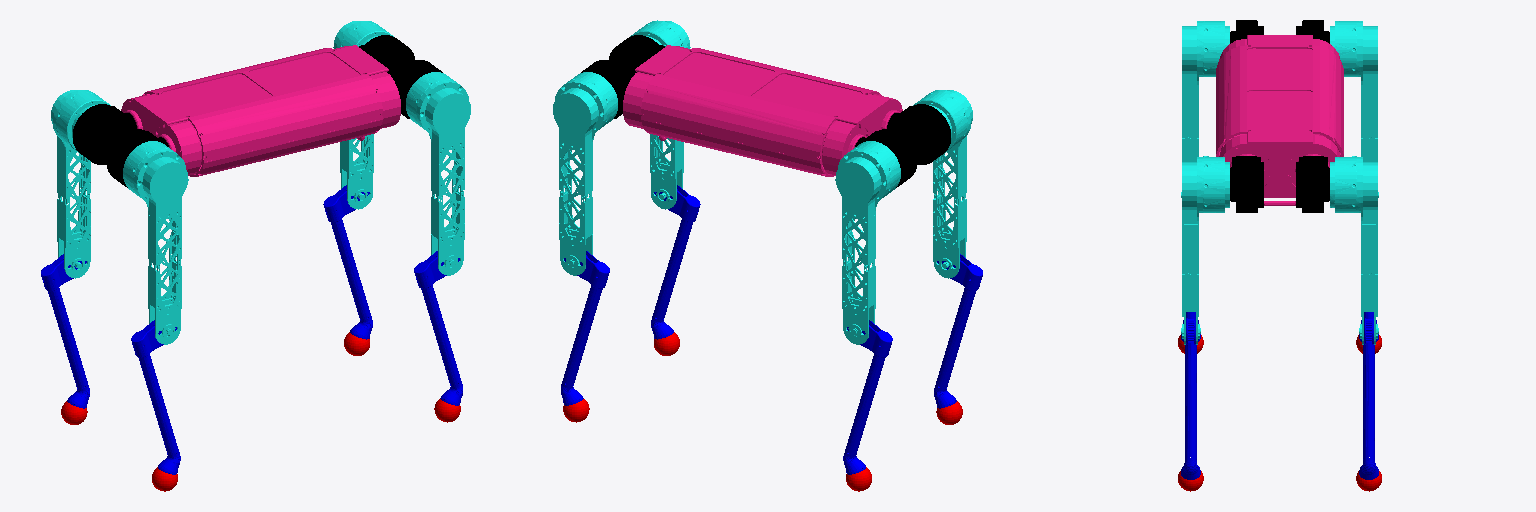
--- Render facts (derived) ---
3 views of the same robot in one strip: view 1: azimuth 30°, elevation 25°; view 2: azimuth 150°, elevation 25°; view 3: azimuth 270°, elevation 25° (orthographic).
Model siriusmid with 17 links and 16 joints (12 revolute, 4 fixed), rooted at body_link, posed every joint at zero.
Visible links, largest first — view 1: body_link, rf_hip_link, rr_hip_link, lr_hip_link, lf_hip_link, lr_abad_link, lf_knee_link, rf_knee_link, rr_knee_link, lr_knee_link, rr_abad_link, lf_abad_link (+1 smaller); view 2: body_link, lf_hip_link, lr_hip_link, rr_hip_link, rf_hip_link, rr_abad_link, rf_knee_link, lf_knee_link, lr_knee_link, rr_knee_link, lr_abad_link, rf_abad_link (+1 smaller); view 3: body_link, rf_hip_link, lf_hip_link, lr_hip_link, rr_hip_link, rf_knee_link, lf_knee_link, lf_abad_link, rf_abad_link.
Link boxes in pixels (x1,y1,x2,y2): body_link: [121, 45, 400, 176]; rf_hip_link: [406, 72, 470, 275]; rr_hip_link: [123, 141, 188, 344]; lr_hip_link: [51, 90, 110, 278]; lf_hip_link: [333, 21, 393, 209]; lr_abad_link: [73, 104, 136, 164]; lf_knee_link: [323, 185, 372, 339]; rf_knee_link: [414, 251, 462, 405]; rr_knee_link: [131, 320, 180, 474]; lr_knee_link: [41, 254, 89, 408]; rr_abad_link: [106, 129, 168, 187]; lf_abad_link: [359, 35, 414, 74]; body_link: [623, 45, 902, 176]; lf_hip_link: [553, 72, 617, 275]; lr_hip_link: [835, 141, 900, 344]; rr_hip_link: [913, 90, 972, 278]; rf_hip_link: [630, 20, 690, 209]; rr_abad_link: [887, 104, 950, 164]; rf_knee_link: [651, 185, 700, 339]; lf_knee_link: [561, 251, 609, 405]; lr_knee_link: [843, 320, 892, 474]; rr_knee_link: [934, 254, 982, 408]; lr_abad_link: [855, 129, 917, 187]; rf_abad_link: [609, 35, 664, 75]; body_link: [1216, 35, 1343, 205]; rf_hip_link: [1181, 156, 1229, 344]; lf_hip_link: [1330, 156, 1378, 344]; lr_hip_link: [1330, 21, 1378, 197]; rr_hip_link: [1181, 21, 1229, 197]; rf_knee_link: [1181, 318, 1200, 479]; lf_knee_link: [1359, 318, 1378, 479]; lf_abad_link: [1296, 156, 1329, 212]; rf_abad_link: [1230, 156, 1263, 212].
Bounding box of the posed robot: 0.6448 × 0.3406 × 0.6138 m (x, y, z).
Meshes: 13 distinct files referenced, 13 mesh visuals loaded (13 binary STL).

robot.urdf — siriusmid:
<?xml version="1.0" encoding="utf-8"?>
<!-- =================================================================================== -->
<!-- |    This document was autogenerated by xacro from siriusmid.urdf.xacro           | -->
<!-- |    EDITING THIS FILE BY HAND IS NOT RECOMMENDED                                 | -->
<!-- =================================================================================== -->
<robot name="siriusmid">
  <!-- arm link 1 position-->
  <!-- arm link 2 position-->
  <!-- arm link 3 position-->
  <!-- arm link 4 position-->
  <!-- arm link 5 position-->
  <!-- arm link 6 position-->
  <!-- Defining the colors used in this robot -->
  <material name="Black">
    <color rgba="0 0 0 1"/>
  </material>
  <material name="Yellow">
    <color rgba="0.854 0.976 0.14 0.8"/>
  </material>
  <material name="White">
    <color rgba="1 1 1 1"/>
  </material>
  <material name="Pink">
    <color rgba="0.96 0.15 0.568 0.8"/>
  </material>
  <material name="Blue">
    <color rgba="0 0 1 1"/>
  </material>
  <material name="Red">
    <color rgba="1 0 0 1"/>
  </material>
  <material name="GreenSky">
    <color rgba="0.149 0.976 0.941 0.8"/>
  </material>

  <!-- Now we can start using the macros included above to define the actual Siriusmid -->
  <!-- BASE LINK -->
  <!-- floating type is supported in older versions of Gazebo. In new Gazebo if a link has no parent, it is supposed to be attached to a floating joint -->
  <!-- Floating-base Joint -->
  <!-- <link name="world"/>
  <joint name="floating_base_joint" type="floating">
    <origin rpy="0 0 0" xyz="0 0 0"/>
    <parent link="world"/>
    <child link="base_link"/>
  </joint>
  <joint name="floating_base" type="fixed">
    <origin rpy="0 0 0" xyz="0 0 0"/>
    <parent link="base_link"/>
    <child link="body_link"/>
  </joint> -->
  <!-- <link name="base_link"/> -->
  <!-- body link -->
  <link name="body_link">
    <inertial>
      <origin rpy="0 0 0" xyz="4.0393E-05 -2.1734E-06 -0.00063565"/>
      <mass value="5.283"/>
      <inertia ixx="0.028454" ixy="-5.9775E-08" ixz="-0.00050774" iyy="0.15791" iyz="-1.7886E-08" izz="0.17219"/>
    </inertial>
    <visual>
      <origin rpy="1.5704 0 0" xyz=" 0 0 0"/>
      <geometry>
        <mesh filename="package://siriusmid_description/meshes/body_link.STL"/>
      </geometry>
      <material name="Pink"/>
    </visual>
    <collision>
      <origin rpy="0 0 0" xyz="0 0 0"/>
      <geometry>
        <mesh filename="package://siriusmid_description/meshes/body_link.STL"/>
      </geometry>
    </collision>
  </link>

  <!-- Joints -->
  <!-- abad assembly joint -->
  <!-- Links -->
  <!-- abad link -->
  <link name="lf_abad_link">
    <inertial>
      <origin rpy="0 0 0" xyz="-0.0012806 4.3563E-08 0.049958"/>
      <mass value="0.92607"/>
      <inertia ixx="0.00098647" ixy="-7.0392E-11" ixz="6.4987E-06" iyy="0.00071554" iyz="1.2357E-10" izz="0.00065157"/>
    </inertial>
    <visual>
      <origin rpy="0 0  0 " xyz="0 0 0"/>
      <geometry>
        <mesh filename="package://siriusmid_description/meshes/lf_abad_link.STL"/>
      </geometry>
      <material name="Black"/>
    </visual>
    <collision>
      <origin rpy="0 0 0 " xyz="0 0 0"/>
      <geometry>
        <mesh filename="package://siriusmid_description/meshes/lf_abad_link.STL"/>
      </geometry>
    </collision>
  </link>
  <!-- name: lf,lr,rf,rr -->
  <link name="lf_hip_link">
    <inertial>
      <origin rpy="0 0 0" xyz="0.027042 -1.7816E-10 0.028552"/>
      <mass value="1.22"/>
      <inertia ixx="0.001198" ixy="4.6672E-11" ixz="0.00095291" iyy="0.0068604" iyz="2.0712E-12" izz="0.0068553"/>
    </inertial>
    <visual>
      <origin rpy="0 0  0 " xyz="0 0 0"/>
      <geometry>
        <mesh filename="package://siriusmid_description/meshes/lf_hip_link.STL"/>
      </geometry>
      <material name="GreenSky"/>
    </visual>
    <collision>
      <origin rpy="0 0 0 " xyz="0 0 0"/>
      <geometry>
        <mesh filename="package://siriusmid_description/meshes/lf_hip_link.STL"/>
      </geometry>
    </collision>
  </link>
  <!-- Lower leg link -->
  <!-- name: lf,lr,rf,rr -->
  <link name="lf_knee_link">
    <inertial>
      <origin rpy="0 0 0" xyz="0.11612 -0.0066095 -4.5982E-08"/>
      <mass value="0.19509"/>
      <inertia ixx="0.00010142" ixy="-0.00027114" ixz="2.9242E-09" iyy="0.0024964" iyz="2.6632E-09" izz="0.0025805"/>
    </inertial>
    <visual>
      <origin rpy="0 0  0 " xyz="0 0 0"/>
      <geometry>
        <mesh filename="package://siriusmid_description/meshes/lf_knee_link.STL"/>
      </geometry>
      <material name="Blue"/>
    </visual>
    <collision>
      <origin rpy="0 0 0 " xyz="0 0 0"/>
      <geometry>
        <mesh filename="package://siriusmid_description/meshes/lf_knee_link.STL"/>
      </geometry>
    </collision>
  </link>
  <!-- Links -->
  <!-- Foot link -->
  <link name="lf_foot">
    <collision>
      <origin rpy="0 0 0" xyz="0 0 0"/>
      <geometry>
        <sphere radius="0.02175"/>
      </geometry>
    </collision>
    <visual>
      <geometry>
        <sphere radius="0.02175"/>
      </geometry>
      <material name="Red"/>
    </visual>
    <inertial>
      <origin rpy="0 0 0" xyz="0 0 0"/>
      <mass value="0.003"/>
      <inertia ixx="0." ixy="0" ixz="0" iyy="0" iyz="0" izz="0"/>
    </inertial>
  </link>
  <!-- Hip assembly -->
  <transmission name="lf_abad_trans">
    <type>transmission_interface/SimpleTransmission</type>
    <joint name="lf_abad_joint">
      <hardwareInterface>hardware_interface/EffortJointInterface</hardwareInterface>
    </joint>
    <actuator name="lf_haa_motor">
      <mechanicalReduction>1</mechanicalReduction>
    </actuator>
  </transmission>
  <!-- Upper leg -->
  <transmission name="lf_hip_trans">
    <type>transmission_interface/SimpleTransmission</type>
    <joint name="lf_hip_joint">
      <hardwareInterface>hardware_interface/EffortJointInterface</hardwareInterface>
    </joint>
    <actuator name="lf_hip_motor">
      <mechanicalReduction>1</mechanicalReduction>
    </actuator>
  </transmission>
  <!-- Lower leg -->
  <transmission name="lf_knee_trans">
    <type>transmission_interface/SimpleTransmission</type>
    <joint name="lf_knee_joint">
      <hardwareInterface>hardware_interface/EffortJointInterface</hardwareInterface>
    </joint>
    <actuator name="lf_knee_motor">
      <mechanicalReduction>1</mechanicalReduction>
    </actuator>
  </transmission>

  <!-- Joints -->
  <!-- abad assembly joint -->
  <joint name="rf_abad_joint" type="revolute">
    <parent link="body_link"/>
    <child link="rf_abad_link"/>
    <origin rpy="-1.5708 0 -1.5708" xyz="0.216 -0.055 0"/>
    <axis xyz="0 0 -1"/>
    <limit effort="25" lower="-2.88" upper="2.88" velocity="15"/>
    <!-- soft limits  keep the motor in safety mode-->
    <safety_controller k_position="500" k_velocity="5" soft_lower_limit="-2.78" soft_upper_limit="2.78"/>
  </joint>
  <!-- Upper leg joint -->
  <joint name="rf_hip_joint" type="revolute">
    <parent link="rf_abad_link"/>
    <child link="rf_hip_link"/>
    <origin rpy="1.5708 0 1.5708" xyz="0.09355 0 0.052"/>
    <axis xyz="0 0 1"/>
    <limit effort="25" lower="-2.88" upper="2.88" velocity="15"/>
    <!-- soft limits  keep the motor in safety mode-->
    <safety_controller k_position="500" k_velocity="5" soft_lower_limit="-2.78" soft_upper_limit="2.78"/>
  </joint>
  <!-- Lower leg joint -->
  <joint name="rf_knee_joint" type="revolute">
    <parent link="rf_hip_link"/>
    <child link="rf_knee_link"/>
    <origin rpy="0 0 0" xyz="0.269 0 0"/>
    <axis xyz="0 0 -1"/>
    <limit effort="25" lower="-2.88" upper="2.88" velocity="15"/>
    <!-- soft limits  keep the motor in safety mode-->
    <safety_controller k_position="500" k_velocity="5" soft_lower_limit="-2.78" soft_upper_limit="2.78"/>
  </joint>
    <joint name="lf_abad_joint" type="revolute">
    <parent link="body_link"/>
    <child link="lf_abad_link"/>
    <origin rpy="1.5708 0 1.5708" xyz="0.216 0.055 0"/>
    <axis xyz="0 0 -1"/>
    <limit effort="25" lower="-2.88" upper="2.88" velocity="15"/>
    <!-- soft limits  keep the motor in safety mode-->
    <safety_controller k_position="500" k_velocity="5" soft_lower_limit="-2.78" soft_upper_limit="2.78"/>
  </joint>
  <!-- Upper leg joint -->
  <joint name="lf_hip_joint" type="revolute">
    <parent link="lf_abad_link"/>
    <child link="lf_hip_link"/>
    <origin rpy="1.5708 0 -1.5708" xyz="0.09355 0 0.052"/>
    <axis xyz="0 0 1"/>
    <limit effort="25" lower="-2.88" upper="2.88" velocity="15"/>
    <!-- soft limits  keep the motor in safety mode-->
    <safety_controller k_position="500" k_velocity="5" soft_lower_limit="-2.78" soft_upper_limit="2.78"/>
  </joint>
  <!-- Lower leg joint -->
  <joint name="lf_knee_joint" type="revolute">
    <parent link="lf_hip_link"/>
    <child link="lf_knee_link"/>
    <origin rpy="0 0 0" xyz="0.269 0 0"/>
    <axis xyz="0 0 -1"/>
    <limit effort="25" lower="-2.88" upper="2.88" velocity="15"/>
    <!-- soft limits  keep the motor in safety mode-->
    <safety_controller k_position="500" k_velocity="5" soft_lower_limit="-2.78" soft_upper_limit="2.78"/>
  </joint>
  <!-- foot joint-->
  <joint name="lf_foot_joint" type="fixed">
    <origin rpy="1.57079632679 0 -1.57079632679" xyz="0.271 0 0"/>
    <parent link="lf_knee_link"/>
    <child link="lf_foot"/>
  </joint>

  <!-- foot joint-->
  <joint name="rf_foot_joint" type="fixed">
    <origin rpy="1.57079632679 0 -1.57079632679" xyz="0.271 0 0"/>
    <parent link="rf_knee_link"/>
    <child link="rf_foot"/>
  </joint>
  <!-- Links -->
  <!-- abad link -->
  <link name="rf_abad_link">
    <inertial>
      <origin rpy="0 0 0" xyz="-0.0012806 4.3563E-08 0.049958"/>
      <mass value="0.92607"/>
      <inertia ixx="0.00098647" ixy="-7.0392E-11" ixz="6.4987E-06" iyy="0.00071554" iyz="1.2357E-10" izz="0.00065157"/>
    </inertial>
    <visual>
      <origin rpy="0 0  0 " xyz="0 0 0"/>
      <geometry>
        <mesh filename="package://siriusmid_description/meshes/rf_abad_link.STL"/>
      </geometry>
      <material name="Black"/>
    </visual>
    <collision>
      <origin rpy="0 0 0 " xyz="0 0 0"/>
      <geometry>
        <mesh filename="package://siriusmid_description/meshes/rf_abad_link.STL"/>
      </geometry>
    </collision>
  </link>
  <!-- name: lf,lr,rf,rr -->
  <link name="rf_hip_link">
    <inertial>
      <origin rpy="0 0 0" xyz="0.027042 -1.7816E-10 0.028552"/>
      <mass value="1.22"/>
      <inertia ixx="0.001198" ixy="4.6672E-11" ixz="0.00095291" iyy="0.0068604" iyz="2.0712E-12" izz="0.0068553"/>
    </inertial>
    <visual>
      <origin rpy="0 0  0 " xyz="0 0 0"/>
      <geometry>
        <mesh filename="package://siriusmid_description/meshes/rf_hip_link.STL"/>
      </geometry>
      <material name="GreenSky"/>
    </visual>
    <collision>
      <origin rpy="0 0 0 " xyz="0 0 0"/>
      <geometry>
        <mesh filename="package://siriusmid_description/meshes/rf_hip_link.STL"/>
      </geometry>
    </collision>
  </link>
  <!-- Lower leg link -->
  <!-- name: lf,lr,rf,rr -->
  <link name="rf_knee_link">
    <inertial>
      <origin rpy="0 0 0" xyz="0.11612 -0.0066095 -4.5982E-08"/>
      <mass value="0.19509"/>
      <inertia ixx="0.00010142" ixy="-0.00027114" ixz="2.9242E-09" iyy="0.0024964" iyz="2.6632E-09" izz="0.0025805"/>
    </inertial>
    <visual>
      <origin rpy="0 0  0 " xyz="0 0 0"/>
      <geometry>
        <mesh filename="package://siriusmid_description/meshes/rf_knee_link.STL"/>
      </geometry>
      <material name="Blue"/>
    </visual>
    <collision>
      <origin rpy="0 0 0 " xyz="0 0 0"/>
      <geometry>
        <mesh filename="package://siriusmid_description/meshes/rf_knee_link.STL"/>
      </geometry>
    </collision>
  </link>
  <!-- Links -->
  <!-- Foot link -->
  <link name="rf_foot">
    <collision>
      <origin rpy="0 0 0" xyz="0 0 0"/>
      <geometry>
        <sphere radius="0.02175"/>
      </geometry>
    </collision>
    <visual>
      <geometry>
        <sphere radius="0.02175"/>
      </geometry>
      <material name="Red"/>
    </visual>
    <inertial>
      <origin rpy="0 0 0" xyz="0 0 0"/>
      <mass value="0.003"/>
      <inertia ixx="0." ixy="0" ixz="0" iyy="0" iyz="0" izz="0"/>
    </inertial>
  </link>
  <!-- Hip assembly -->
  <transmission name="rf_abad_trans">
    <type>transmission_interface/SimpleTransmission</type>
    <joint name="rf_abad_joint">
      <hardwareInterface>hardware_interface/EffortJointInterface</hardwareInterface>
    </joint>
    <actuator name="rf_haa_motor">
      <mechanicalReduction>1</mechanicalReduction>
    </actuator>
  </transmission>
  <!-- Upper leg -->
  <transmission name="rf_hip_trans">
    <type>transmission_interface/SimpleTransmission</type>
    <joint name="rf_hip_joint">
      <hardwareInterface>hardware_interface/EffortJointInterface</hardwareInterface>
    </joint>
    <actuator name="rf_hip_motor">
      <mechanicalReduction>1</mechanicalReduction>
    </actuator>
  </transmission>
  <!-- Lower leg -->
  <transmission name="rf_knee_trans">
    <type>transmission_interface/SimpleTransmission</type>
    <joint name="rf_knee_joint">
      <hardwareInterface>hardware_interface/EffortJointInterface</hardwareInterface>
    </joint>
    <actuator name="rf_knee_motor">
      <mechanicalReduction>1</mechanicalReduction>
    </actuator>
  </transmission>

    <joint name="rr_abad_joint" type="revolute">
    <parent link="body_link"/>
    <child link="rr_abad_link"/>
    <origin rpy="1.5708 0 -1.5708" xyz="-0.216 -0.055 0"/>
    <axis xyz="0 0 -1"/>
    <limit effort="25" lower="-2.88" upper="2.88" velocity="15"/>
    <!-- soft limits  keep the motor in safety mode-->
    <safety_controller k_position="500" k_velocity="5" soft_lower_limit="-2.78" soft_upper_limit="2.78"/>
  </joint>
  <!-- Upper leg joint -->
  <joint name="rr_hip_joint" type="revolute">
    <parent link="rr_abad_link"/>
    <child link="rr_hip_link"/>
    <origin rpy="-1.5708 0 -1.5708" xyz="0.09355 0 0.052"/>
    <axis xyz="0 0 1"/>
    <limit effort="25" lower="-2.88" upper="2.88" velocity="15"/>
    <!-- soft limits  keep the motor in safety mode-->
    <safety_controller k_position="500" k_velocity="5" soft_lower_limit="-2.78" soft_upper_limit="2.78"/>
  </joint>
  <!-- Lower leg joint -->
  <joint name="rr_knee_joint" type="revolute">
    <parent link="rr_hip_link"/>
    <child link="rr_knee_link"/>
    <origin rpy="0 0 0" xyz="0.269 0 0"/>
    <axis xyz="0 0 -1"/>
    <limit effort="25" lower="-2.88" upper="2.88" velocity="15"/>
    <!-- soft limits  keep the motor in safety mode-->
    <safety_controller k_position="500" k_velocity="5" soft_lower_limit="-2.78" soft_upper_limit="2.78"/>
  </joint>
  <!-- foot joint-->
  <joint name="rr_foot_joint" type="fixed">
    <origin rpy="1.57079632679 0 -1.57079632679" xyz="0.271 0 0"/>
    <parent link="rr_knee_link"/>
    <child link="rr_foot"/>
  </joint>

  <!-- Joints -->
  <!-- abad assembly joint -->
  <joint name="lr_abad_joint" type="revolute">
    <parent link="body_link"/>
    <child link="lr_abad_link"/>
    <origin rpy="-1.5708 0 1.5708" xyz="-0.216 0.055 0"/>
    <axis xyz="0 0 -1"/>
    <limit effort="25" lower="-2.88" upper="2.88" velocity="15"/>
    <!-- soft limits  keep the motor in safety mode-->
    <safety_controller k_position="500" k_velocity="5" soft_lower_limit="-2.78" soft_upper_limit="2.78"/>
  </joint>
  <!-- Upper leg joint -->
  <joint name="lr_hip_joint" type="revolute">
    <parent link="lr_abad_link"/>
    <child link="lr_hip_link"/>
    <origin rpy="-1.5708 0 1.5708" xyz="0.09355 0 0.052"/>
    <axis xyz="0 0 1"/>
    <limit effort="25" lower="-2.88" upper="2.88" velocity="15"/>
    <!-- soft limits  keep the motor in safety mode-->
    <safety_controller k_position="500" k_velocity="5" soft_lower_limit="-2.78" soft_upper_limit="2.78"/>
  </joint>
  <!-- Lower leg joint -->
  <joint name="lr_knee_joint" type="revolute">
    <parent link="lr_hip_link"/>
    <child link="lr_knee_link"/>
    <origin rpy="0 0 0" xyz="0.269 0 0"/>
    <axis xyz="0 0 -1"/>
    <limit effort="25" lower="-2.88" upper="2.88" velocity="15"/>
    <!-- soft limits  keep the motor in safety mode-->
    <safety_controller k_position="500" k_velocity="5" soft_lower_limit="-2.78" soft_upper_limit="2.78"/>
  </joint>
  <!-- foot joint-->
  <joint name="lr_foot_joint" type="fixed">
    <origin rpy="1.57079632679 0 -1.57079632679" xyz="0.271 0 0"/>
    <parent link="lr_knee_link"/>
    <child link="lr_foot"/>
  </joint>
  <!-- Links -->
  <!-- abad link -->
  <link name="lr_abad_link">
    <inertial>
      <origin rpy="0 0 0" xyz="-0.0012806 4.3563E-08 0.049958"/>
      <mass value="0.92607"/>
      <inertia ixx="0.00098647" ixy="-7.0392E-11" ixz="6.4987E-06" iyy="0.00071554" iyz="1.2357E-10" izz="0.00065157"/>
    </inertial>
    <visual>
      <origin rpy="0 0  0 " xyz="0 0 0"/>
      <geometry>
        <mesh filename="package://siriusmid_description/meshes/lr_abad_link.STL"/>
      </geometry>
      <material name="Black"/>
    </visual>
    <collision>
      <origin rpy="0 0 0 " xyz="0 0 0"/>
      <geometry>
        <mesh filename="package://siriusmid_description/meshes/lr_abad_link.STL"/>
      </geometry>
    </collision>
  </link>
  <!-- name: lf,lr,rf,rr -->
  <link name="lr_hip_link">
    <inertial>
      <origin rpy="0 0 0" xyz="0.027042 -1.7816E-10 0.028552"/>
      <mass value="1.22"/>
      <inertia ixx="0.001198" ixy="4.6672E-11" ixz="0.00095291" iyy="0.0068604" iyz="2.0712E-12" izz="0.0068553"/>
    </inertial>
    <visual>
      <origin rpy="0 0  0 " xyz="0 0 0"/>
      <geometry>
        <mesh filename="package://siriusmid_description/meshes/lr_hip_link.STL"/>
      </geometry>
      <material name="GreenSky"/>
    </visual>
    <collision>
      <origin rpy="0 0 0 " xyz="0 0 0"/>
      <geometry>
        <mesh filename="package://siriusmid_description/meshes/lr_hip_link.STL"/>
      </geometry>
    </collision>
  </link>
  <!-- Lower leg link -->
  <!-- name: lf,lr,rf,rr -->
  <link name="lr_knee_link">
    <inertial>
      <origin rpy="0 0 0" xyz="0.11612 -0.0066095 -4.5982E-08"/>
      <mass value="0.19509"/>
      <inertia ixx="0.00010142" ixy="-0.00027114" ixz="2.9242E-09" iyy="0.0024964" iyz="2.6632E-09" izz="0.0025805"/>
    </inertial>
    <visual>
      <origin rpy="0 0  0 " xyz="0 0 0"/>
      <geometry>
        <mesh filename="package://siriusmid_description/meshes/lr_knee_link.STL"/>
      </geometry>
      <material name="Blue"/>
    </visual>
    <collision>
      <origin rpy="0 0 0 " xyz="0 0 0"/>
      <geometry>
        <mesh filename="package://siriusmid_description/meshes/lr_knee_link.STL"/>
      </geometry>
    </collision>
  </link>
  <!-- Links -->
  <!-- Foot link -->
  <link name="lr_foot">
    <collision>
      <origin rpy="0 0 0" xyz="0 0 0"/>
      <geometry>
        <sphere radius="0.02175"/>
      </geometry>
    </collision>
    <visual>
      <geometry>
        <sphere radius="0.02175"/>
      </geometry>
      <material name="Red"/>
    </visual>
    <inertial>
      <origin rpy="0 0 0" xyz="0 0 0"/>
      <mass value="0.003"/>
      <inertia ixx="0." ixy="0" ixz="0" iyy="0" iyz="0" izz="0"/>
    </inertial>
  </link>
  <!-- Hip assembly -->
  <transmission name="lr_abad_trans">
    <type>transmission_interface/SimpleTransmission</type>
    <joint name="lr_abad_joint">
      <hardwareInterface>hardware_interface/EffortJointInterface</hardwareInterface>
    </joint>
    <actuator name="lr_haa_motor">
      <mechanicalReduction>1</mechanicalReduction>
    </actuator>
  </transmission>
  <!-- Upper leg -->
  <transmission name="lr_hip_trans">
    <type>transmission_interface/SimpleTransmission</type>
    <joint name="lr_hip_joint">
      <hardwareInterface>hardware_interface/EffortJointInterface</hardwareInterface>
    </joint>
    <actuator name="lr_hip_motor">
      <mechanicalReduction>1</mechanicalReduction>
    </actuator>
  </transmission>
  <!-- Lower leg -->
  <transmission name="lr_knee_trans">
    <type>transmission_interface/SimpleTransmission</type>
    <joint name="lr_knee_joint">
      <hardwareInterface>hardware_interface/EffortJointInterface</hardwareInterface>
    </joint>
    <actuator name="lr_knee_motor">
      <mechanicalReduction>1</mechanicalReduction>
    </actuator>
  </transmission>
  <!-- Joints -->
  <!-- abad assembly joint -->
  <!-- Links -->
  <!-- abad link -->
  <link name="rr_abad_link">
    <inertial>
      <origin rpy="0 0 0" xyz="-0.0012806 4.3563E-08 0.049958"/>
      <mass value="0.92607"/>
      <inertia ixx="0.00098647" ixy="-7.0392E-11" ixz="6.4987E-06" iyy="0.00071554" iyz="1.2357E-10" izz="0.00065157"/>
    </inertial>
    <visual>
      <origin rpy="0 0  0 " xyz="0 0 0"/>
      <geometry>
        <mesh filename="package://siriusmid_description/meshes/rr_abad_link.STL"/>
      </geometry>
      <material name="Black"/>
    </visual>
    <collision>
      <origin rpy="0 0 0 " xyz="0 0 0"/>
      <geometry>
        <mesh filename="package://siriusmid_description/meshes/rr_abad_link.STL"/>
      </geometry>
    </collision>
  </link>
  <!-- name: lf,lr,rf,rr -->
  <link name="rr_hip_link">
    <inertial>
      <origin rpy="0 0 0" xyz="0.027042 -1.7816E-10 0.028552"/>
      <mass value="1.22"/>
      <inertia ixx="0.001198" ixy="4.6672E-11" ixz="0.00095291" iyy="0.0068604" iyz="2.0712E-12" izz="0.0068553"/>
    </inertial>
    <visual>
      <origin rpy="0 0  0 " xyz="0 0 0"/>
      <geometry>
        <mesh filename="package://siriusmid_description/meshes/rr_hip_link.STL"/>
      </geometry>
      <material name="GreenSky"/>
    </visual>
    <collision>
      <origin rpy="0 0 0 " xyz="0 0 0"/>
      <geometry>
        <mesh filename="package://siriusmid_description/meshes/rr_hip_link.STL"/>
      </geometry>
    </collision>
  </link>
  <!-- Lower leg link -->
  <!-- name: lf,lr,rf,rr -->
  <link name="rr_knee_link">
    <inertial>
      <origin rpy="0 0 0" xyz="0.11612 -0.0066095 -4.5982E-08"/>
      <mass value="0.19509"/>
      <inertia ixx="0.00010142" ixy="-0.00027114" ixz="2.9242E-09" iyy="0.0024964" iyz="2.6632E-09" izz="0.0025805"/>
    </inertial>
    <visual>
      <origin rpy="0 0  0 " xyz="0 0 0"/>
      <geometry>
        <mesh filename="package://siriusmid_description/meshes/rr_knee_link.STL"/>
      </geometry>
      <material name="Blue"/>
    </visual>
    <collision>
      <origin rpy="0 0 0 " xyz="0 0 0"/>
      <geometry>
        <mesh filename="package://siriusmid_description/meshes/rr_knee_link.STL"/>
      </geometry>
    </collision>
  </link>
  <!-- Links -->
  <!-- Foot link -->
  <link name="rr_foot">
    <collision>
      <origin rpy="0 0 0" xyz="0 0 0"/>
      <geometry>
        <sphere radius="0.02175"/>
      </geometry>
    </collision>
    <visual>
      <geometry>
        <sphere radius="0.02175"/>
      </geometry>
      <material name="Red"/>
    </visual>
    <inertial>
      <origin rpy="0 0 0" xyz="0 0 0"/>
      <mass value="0.003"/>
      <inertia ixx="0." ixy="0" ixz="0" iyy="0" iyz="0" izz="0"/>
    </inertial>
  </link>
  <!-- Hip assembly -->
  <transmission name="rr_abad_trans">
    <type>transmission_interface/SimpleTransmission</type>
    <joint name="rr_abad_joint">
      <hardwareInterface>hardware_interface/EffortJointInterface</hardwareInterface>
    </joint>
    <actuator name="rr_haa_motor">
      <mechanicalReduction>1</mechanicalReduction>
    </actuator>
  </transmission>
  <!-- Upper leg -->
  <transmission name="rr_hip_trans">
    <type>transmission_interface/SimpleTransmission</type>
    <joint name="rr_hip_joint">
      <hardwareInterface>hardware_interface/EffortJointInterface</hardwareInterface>
    </joint>
    <actuator name="rr_hip_motor">
      <mechanicalReduction>1</mechanicalReduction>
    </actuator>
  </transmission>
  <!-- Lower leg -->
  <transmission name="rr_knee_trans">
    <type>transmission_interface/SimpleTransmission</type>
    <joint name="rr_knee_joint">
      <hardwareInterface>hardware_interface/EffortJointInterface</hardwareInterface>
    </joint>
    <actuator name="rr_knee_motor">
      <mechanicalReduction>1</mechanicalReduction>
    </actuator>
  </transmission>
</robot>
